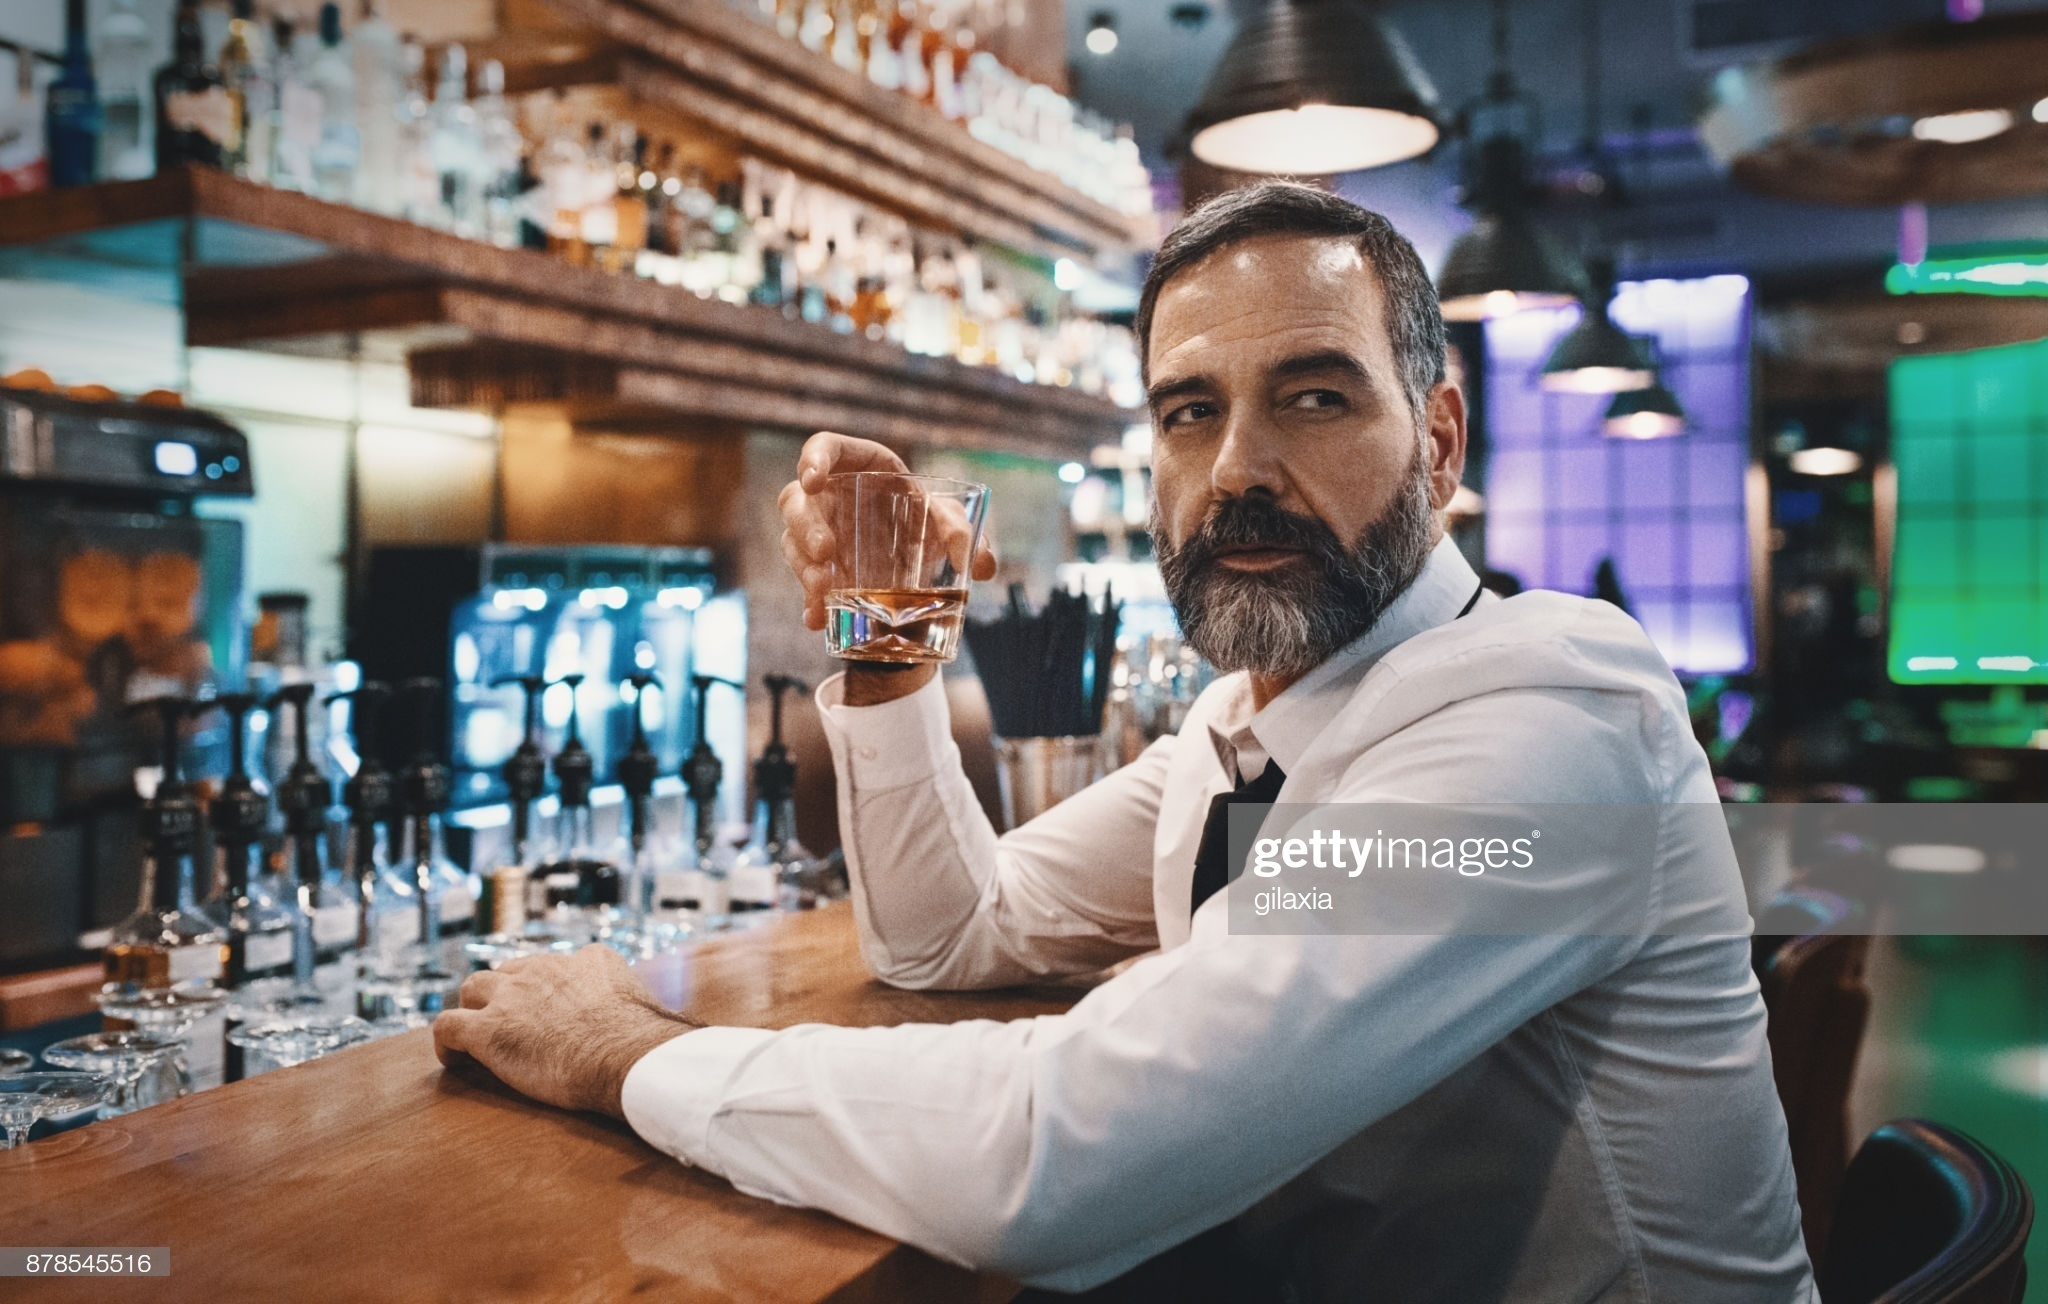whiskey: (817, 480, 967, 671)
